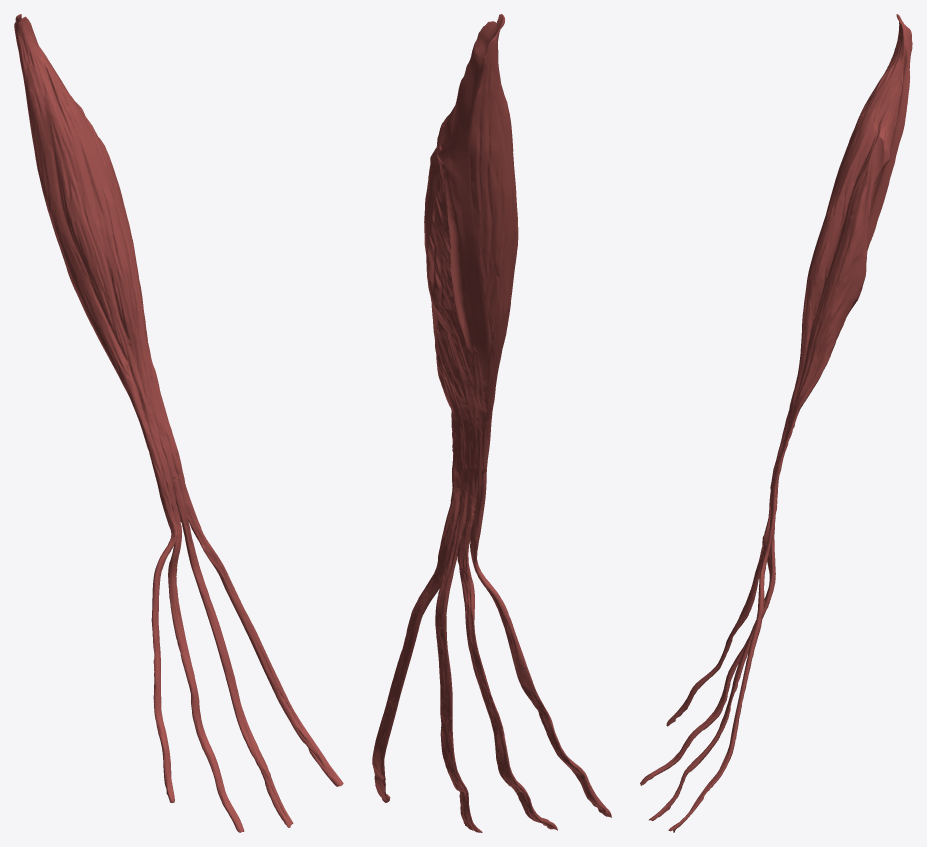
Rendered from FMA38480.glb.
The picture shows the model from 3 angles, left to right: view 1: azimuth 30°, elevation 25°; view 2: azimuth 150°, elevation 25°; view 3: azimuth 270°, elevation 25°; orthographic projection. The views are drawn at different scales.
Visible parts, largest first — view 1: FMA38480; view 2: FMA38480; view 3: FMA38480.
Boxes of the visible parts, x1=… form: FMA38480: x1=14, y1=14, x2=343, y2=832; FMA38480: x1=372, y1=14, x2=611, y2=832; FMA38480: x1=640, y1=14, x2=912, y2=832.
Bounding box in the file's own units: 0.1031 × 0.3534 × 0.1184.
